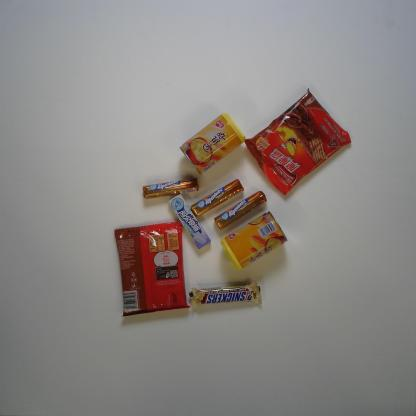Candy: (168, 194, 212, 250), (214, 190, 268, 230), (190, 179, 244, 217), (142, 178, 199, 199)
Canned Food: (178, 112, 246, 175), (221, 211, 288, 271)
Chocolate: (188, 282, 263, 309)
Dessert: (245, 88, 352, 195), (114, 220, 191, 318)
